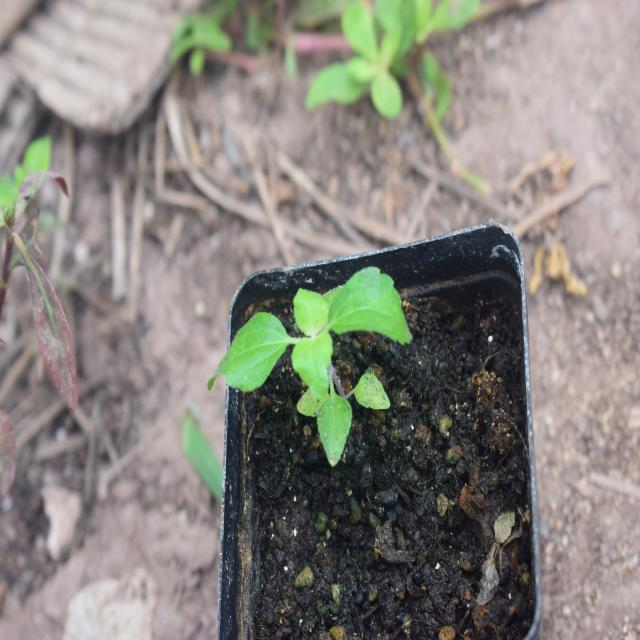billygoat_weed: (217, 229, 410, 470)
